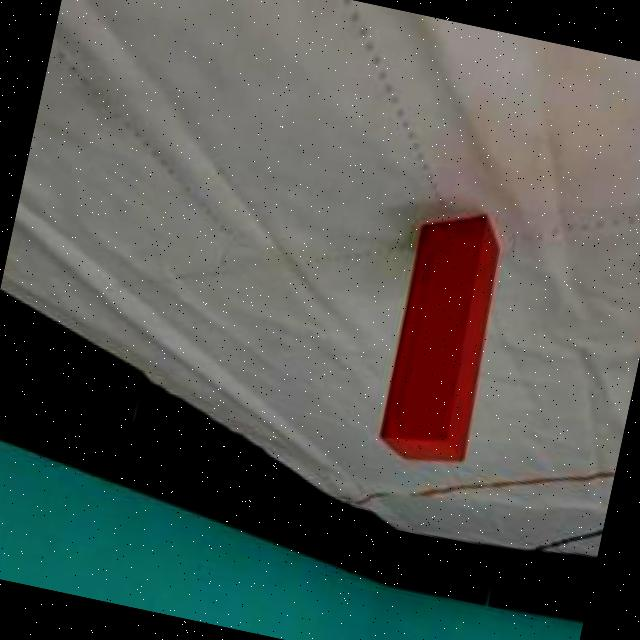redbox: (370, 202, 512, 473)
